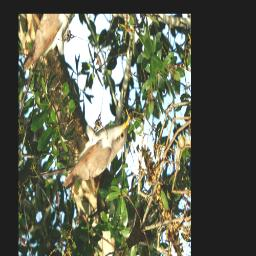Cuckoo: (50, 72, 138, 215)
